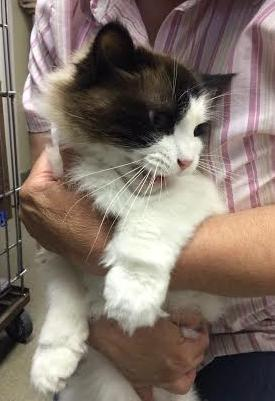ragdoll: (43, 15, 240, 208)
